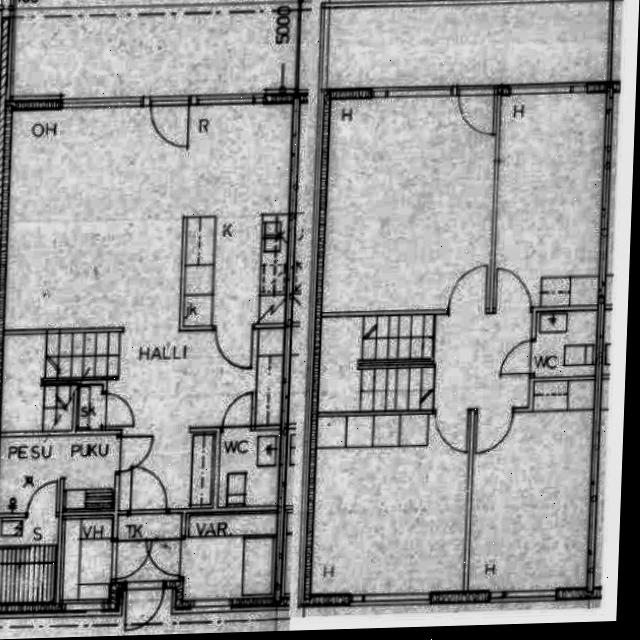room: (322, 89, 497, 319), (312, 408, 470, 599), (468, 376, 595, 595), (493, 90, 605, 311), (0, 435, 117, 513), (181, 511, 280, 600), (0, 517, 59, 604), (218, 428, 280, 509), (60, 514, 113, 604), (535, 309, 597, 378)
